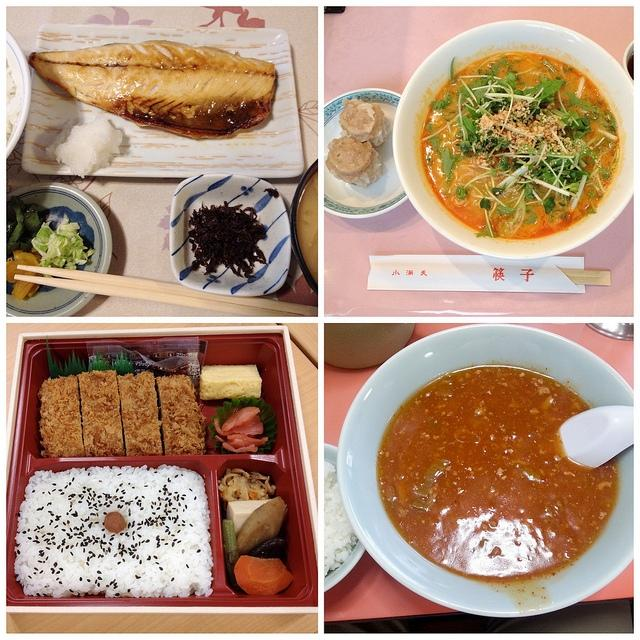carrot: (234, 555, 294, 595)
lettuce: (524, 78, 564, 100), (34, 242, 48, 252)
